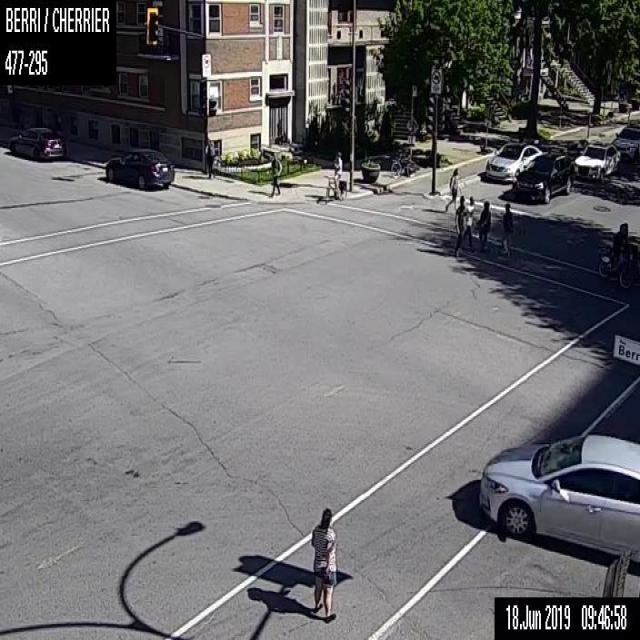cyclist: (598, 222, 639, 286), (324, 151, 346, 204)
pedestrian: (309, 508, 336, 621), (452, 194, 466, 257), (444, 166, 462, 212), (475, 200, 490, 251), (462, 195, 474, 251), (500, 203, 512, 256), (268, 152, 282, 196), (206, 137, 214, 179)
vehicle: (478, 434, 639, 562), (104, 147, 174, 189), (512, 153, 570, 202), (486, 141, 542, 180), (8, 126, 64, 160), (573, 144, 620, 180), (611, 123, 639, 162)
